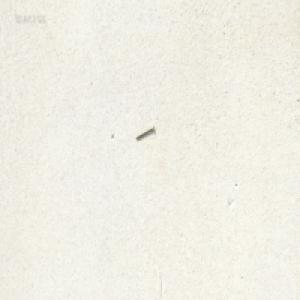Bolt: (134, 124, 154, 140)
